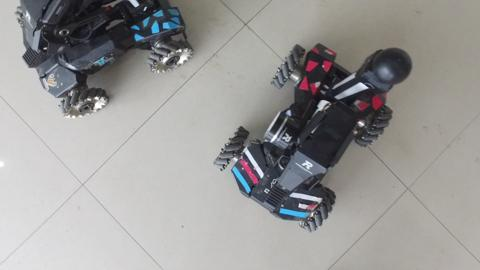chariot: (213, 28, 414, 235), (11, 1, 203, 121)
